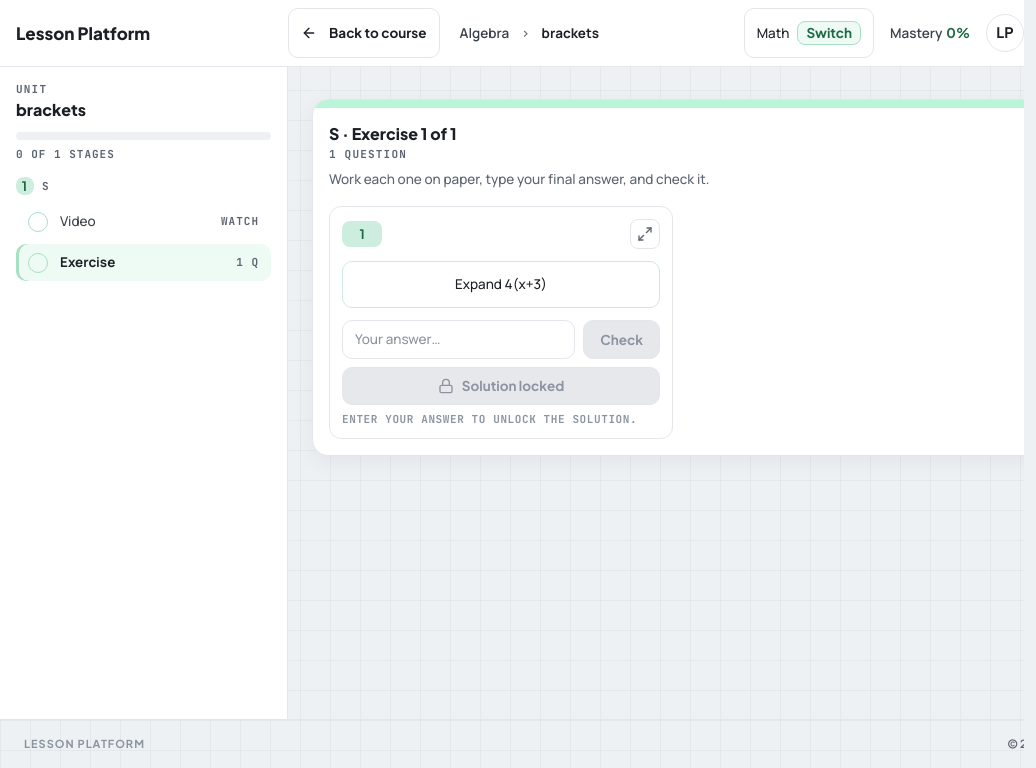
Test case: ExercisePage — completion & gating › marks a correct answer by algebraic equivalence (a reordering still passes)
Type "12 + 4x" into the field labelled "Your answer".
click(459, 339); type("12 + 4x")  # box x1=342 y1=320 x2=575 y2=359
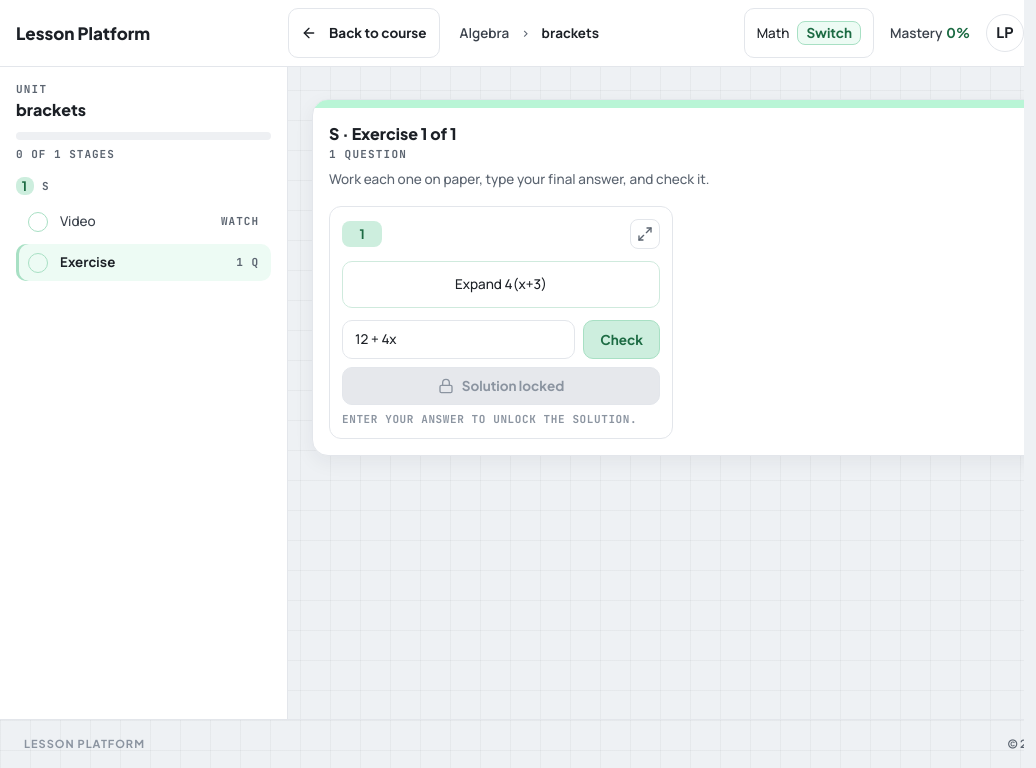
Click the button "Check".
click(622, 339)  # box x1=583 y1=320 x2=660 y2=359
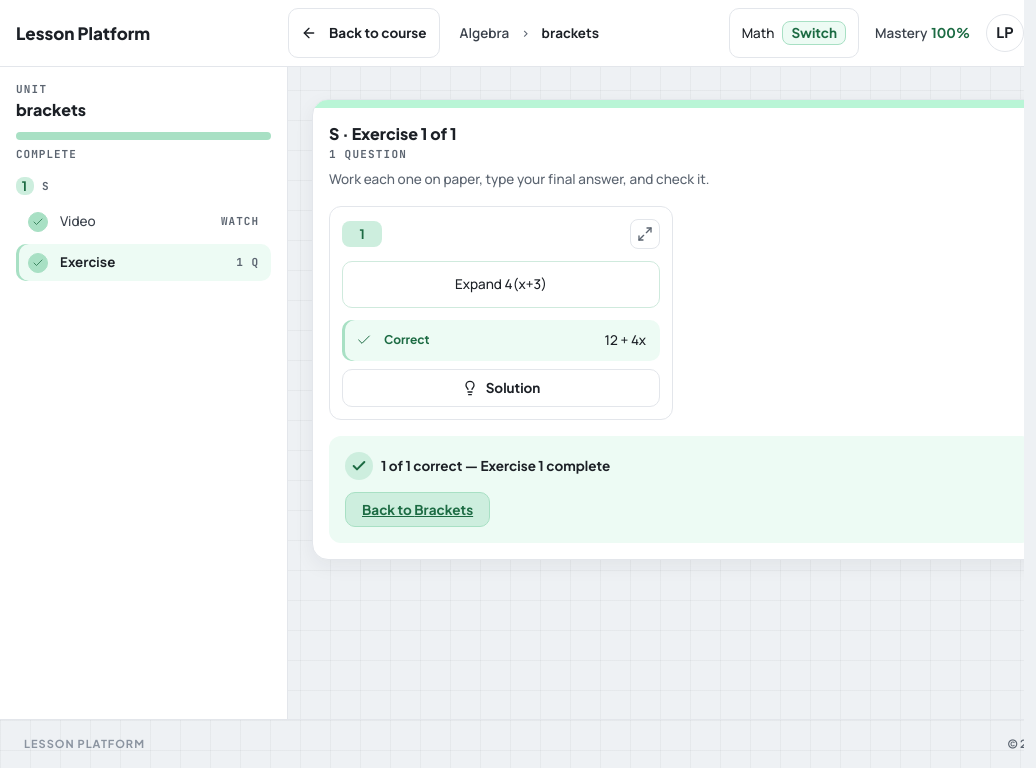
expect the text "Correct" is shown: met, box x1=384 y1=334 x2=430 y2=346
